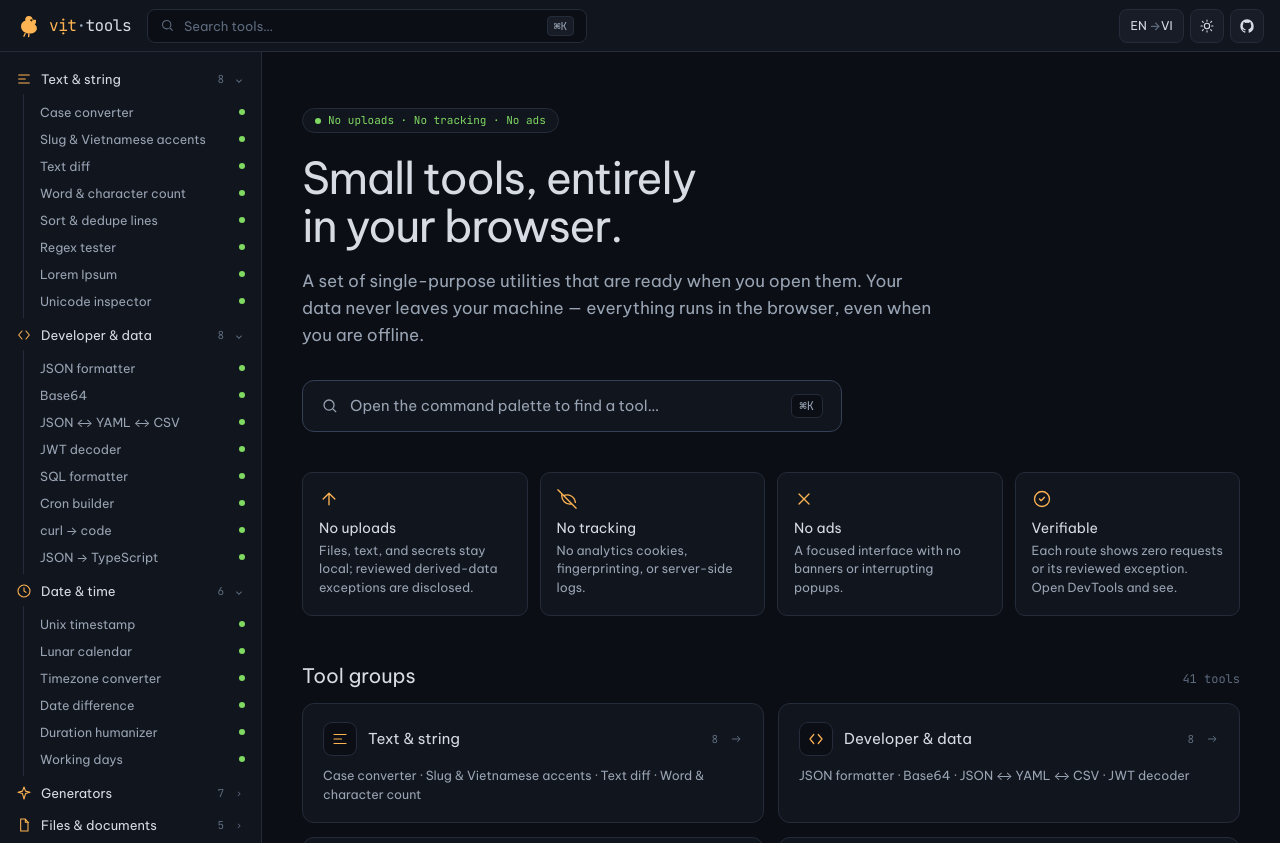
Test: tool platform shell › opens a registry-driven static group hub
The image size is (1280, 843).
Click the link "Text & string" at (340, 739), box x1=302 y1=703 x2=764 y2=823
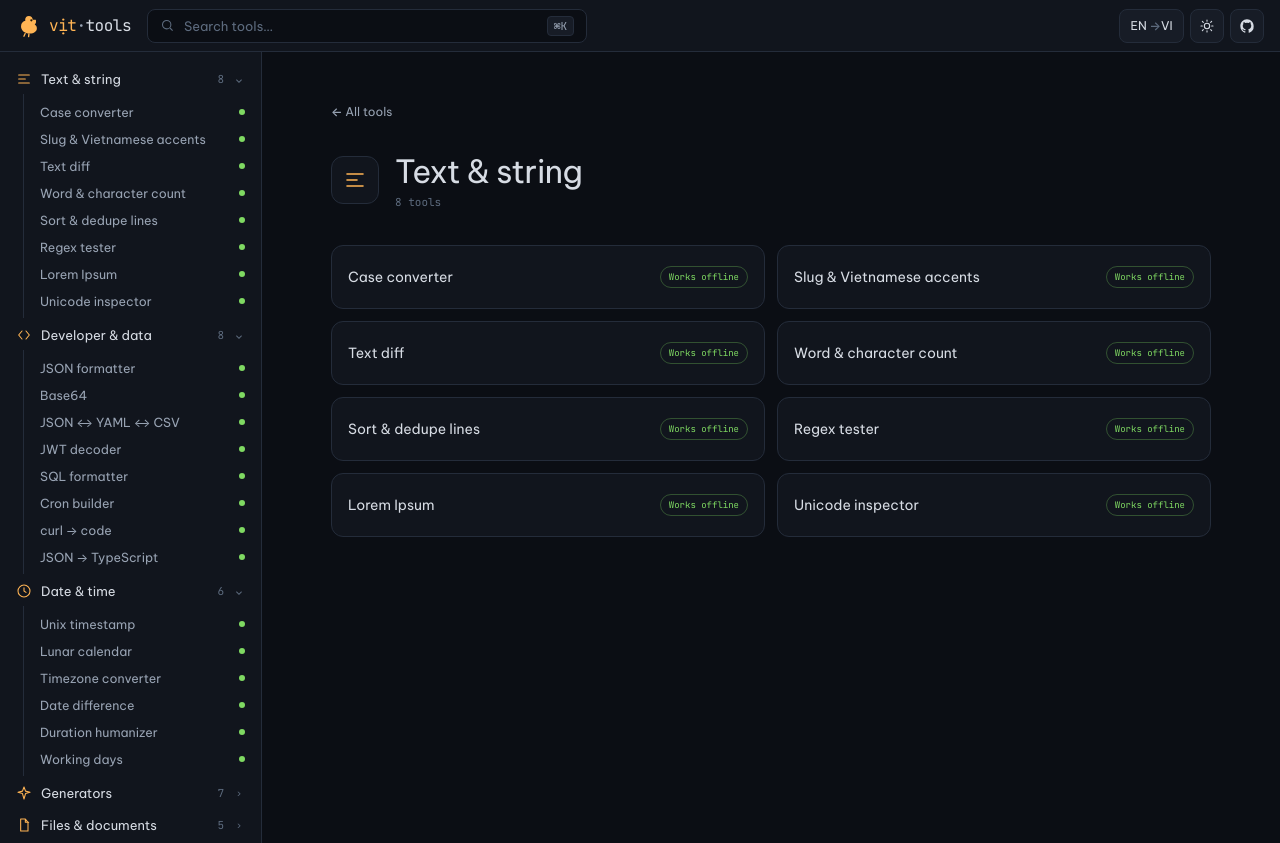
Expected: the heading "Text & string" is shown, x1=395 y1=151 x2=582 y2=191
Expected: the text "Works offline" is shown 8 times
